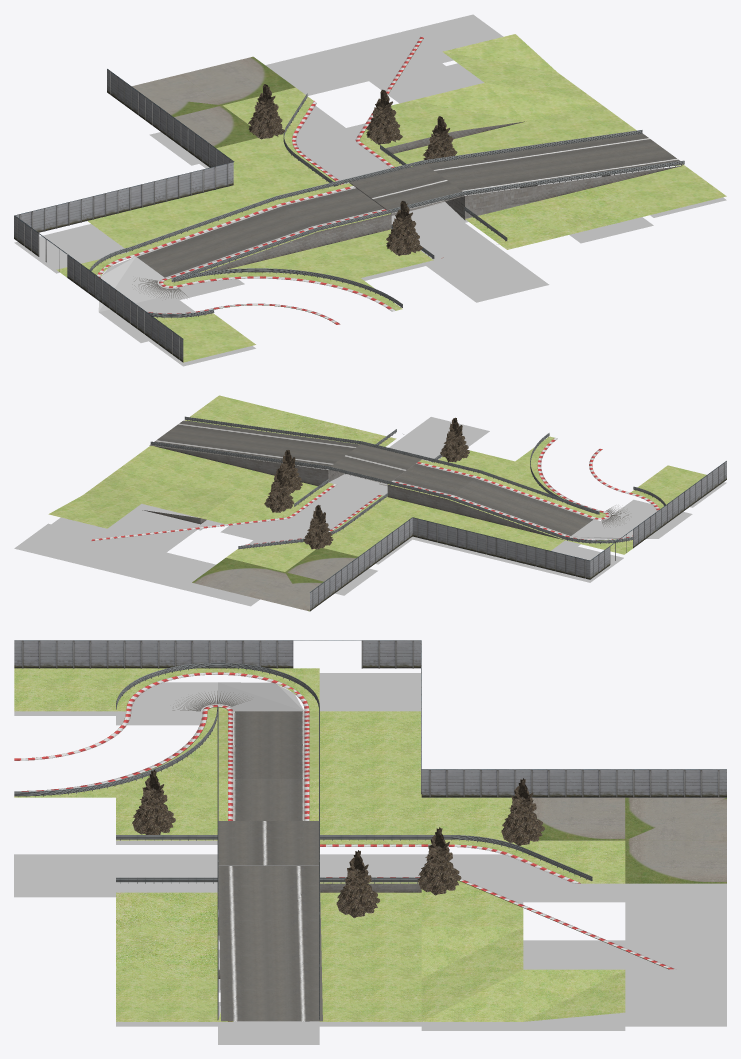
The model's file is map2.obj.
3 views of the same model, one above another, from view 1: azimuth 30°, elevation 25°; view 2: azimuth 150°, elevation 25°; view 3: azimuth 270°, elevation 25° (orthographic). The views are drawn at different scales.
Parts seen in each view (by area): view 1: map3; view 2: map3; view 3: map3.
Part boxes in pixels (x1,y1,x2,y2): map3: (14,14,726,366); map3: (14,395,726,611); map3: (14,640,726,1044).
Bounding box in the file's own units: 518 × 66.66 × 453.
10 materials, 9 textured.
